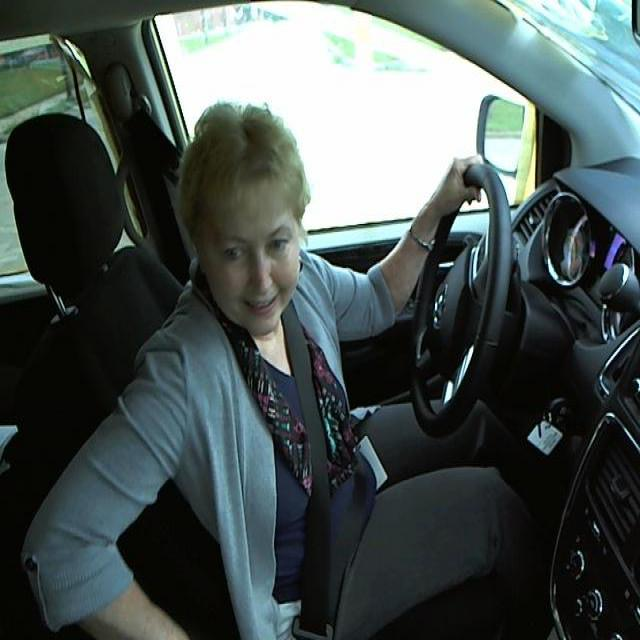seatbelt: (288, 331, 368, 618)
